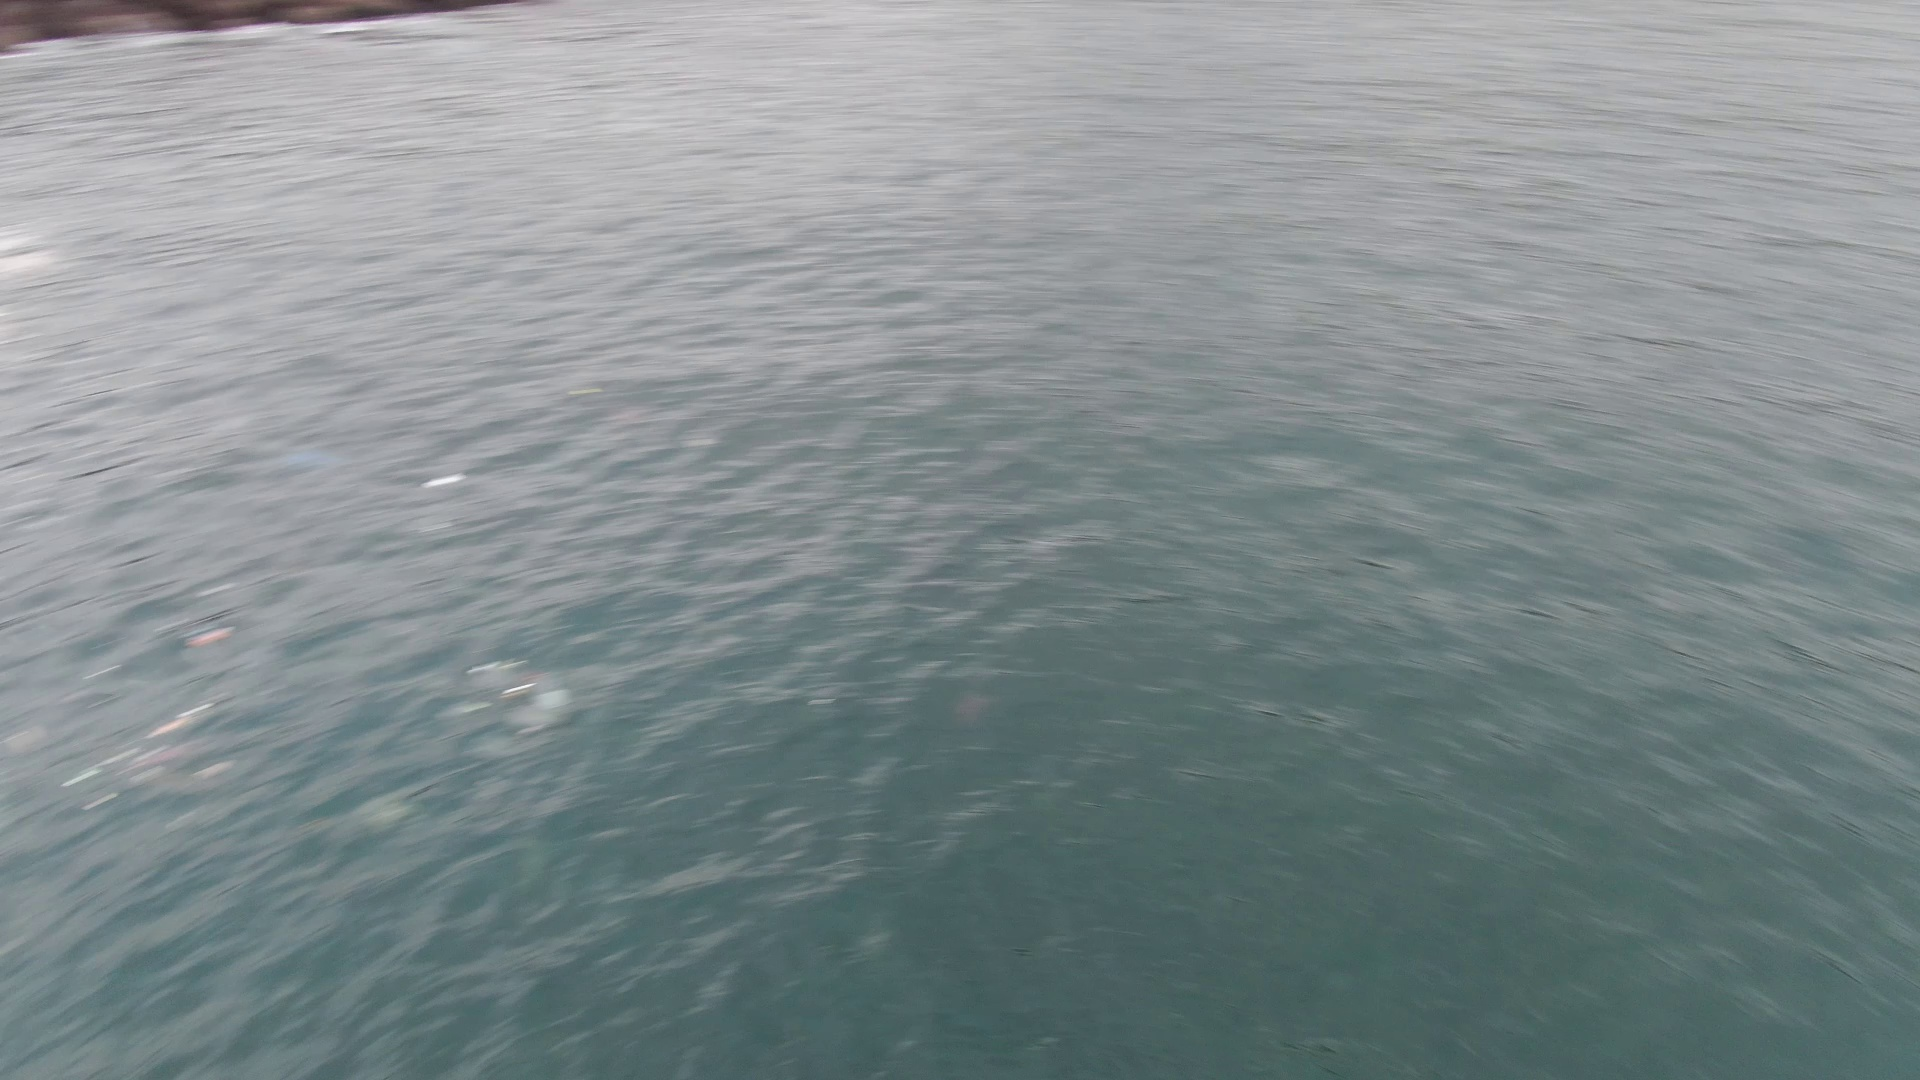garbage: (69, 704, 228, 810), (455, 658, 570, 717), (178, 626, 233, 649), (419, 469, 465, 493)
